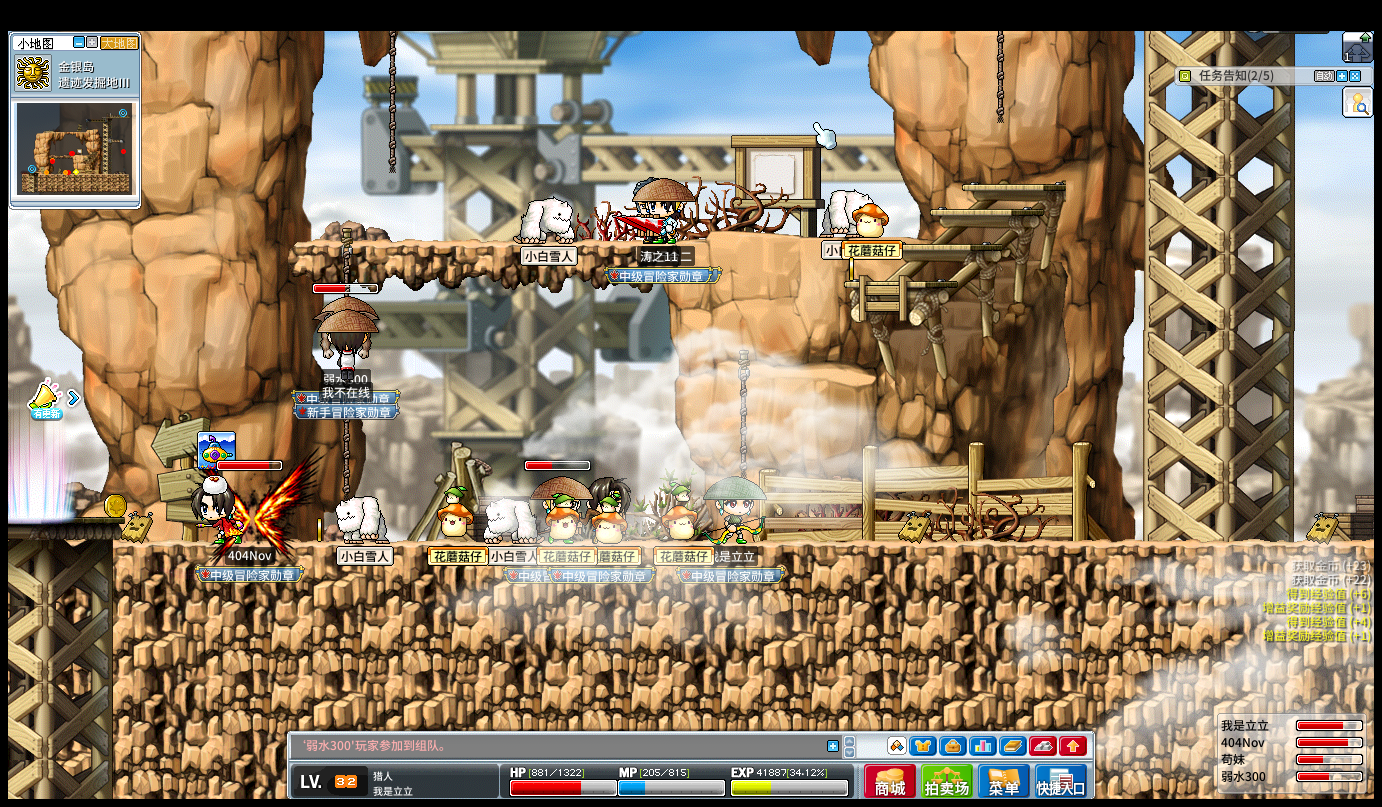floor: (291, 239, 672, 249), (762, 365, 877, 386), (841, 280, 955, 291), (781, 233, 930, 241), (928, 205, 1042, 215), (840, 279, 957, 288), (8, 516, 121, 525), (960, 183, 1064, 191), (896, 243, 997, 251), (927, 207, 1039, 214)
rope: (736, 350, 748, 478), (387, 30, 396, 177), (341, 419, 354, 499), (336, 225, 349, 299), (993, 30, 1003, 119)
